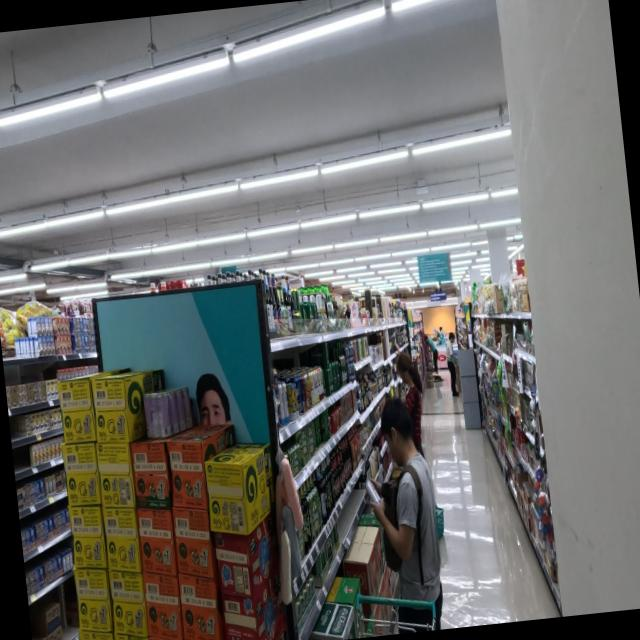shoplifting: (355, 394, 448, 636)
